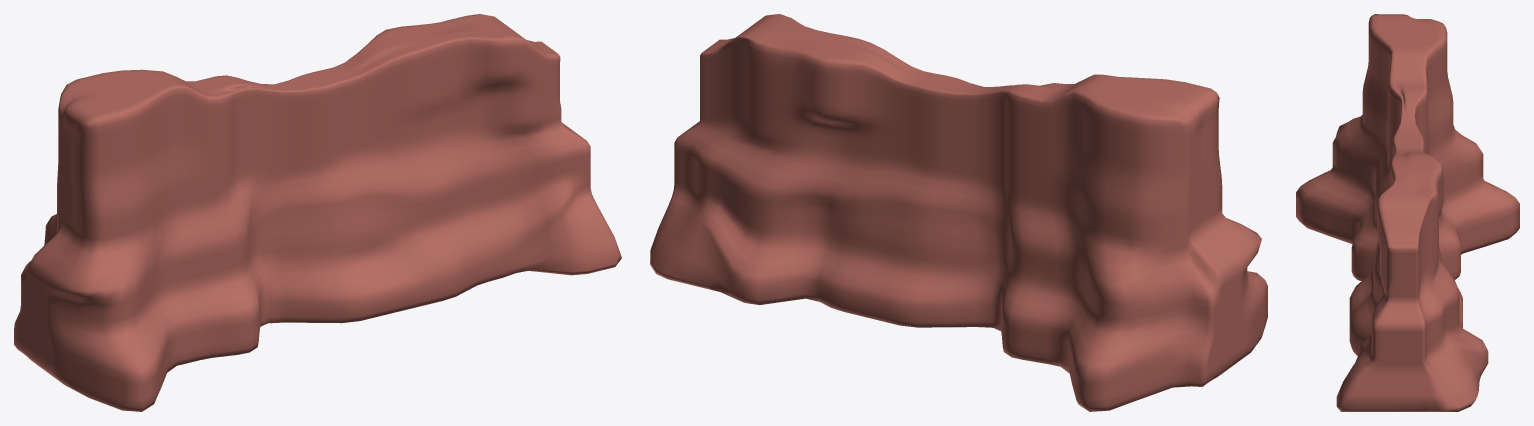
The model's file is Canyon2.fbx.
The picture shows the model from 3 angles, left to right: view 1: azimuth 30°, elevation 25°; view 2: azimuth 150°, elevation 25°; view 3: azimuth 270°, elevation 25°; orthographic projection. The views are drawn at different scales.
Visible parts, largest first — view 1: Canyon2; view 2: Canyon2; view 3: Canyon2.
Part boxes in pixels (x1,y1,x2,y2): Canyon2: (14, 14, 621, 411); Canyon2: (650, 14, 1267, 411); Canyon2: (1296, 14, 1519, 411).
Size of the model in its own units: 495 by 227 by 221.
